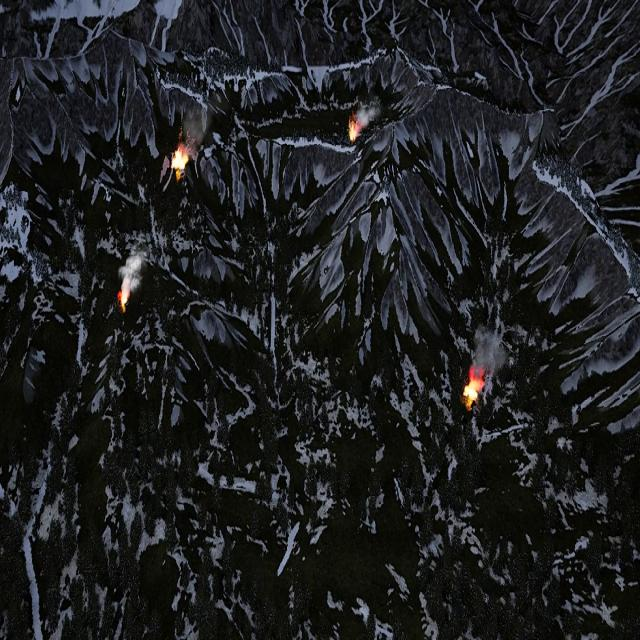fire: (462, 372, 483, 404), (171, 146, 189, 172), (118, 286, 127, 310), (349, 121, 358, 142)
smoke: (472, 328, 507, 378), (182, 106, 214, 150), (120, 250, 148, 292), (352, 97, 381, 128)
